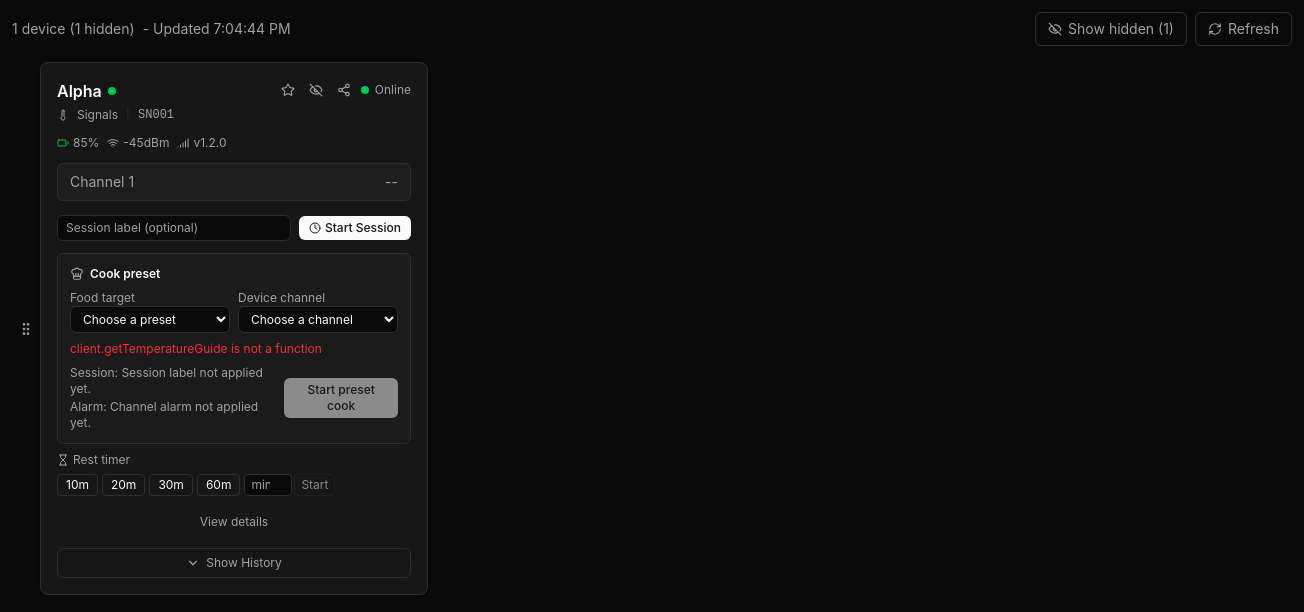
DeviceList visibility › reveals hidden devices when 'Show hidden' is toggled
The image size is (1304, 612).
Expected: the text "Beta" is not shown
Note: Click "Show hidden"
Click the button with aria-label "Show hidden devices" at (1111, 29), box x1=1035 y1=12 x2=1187 y2=46
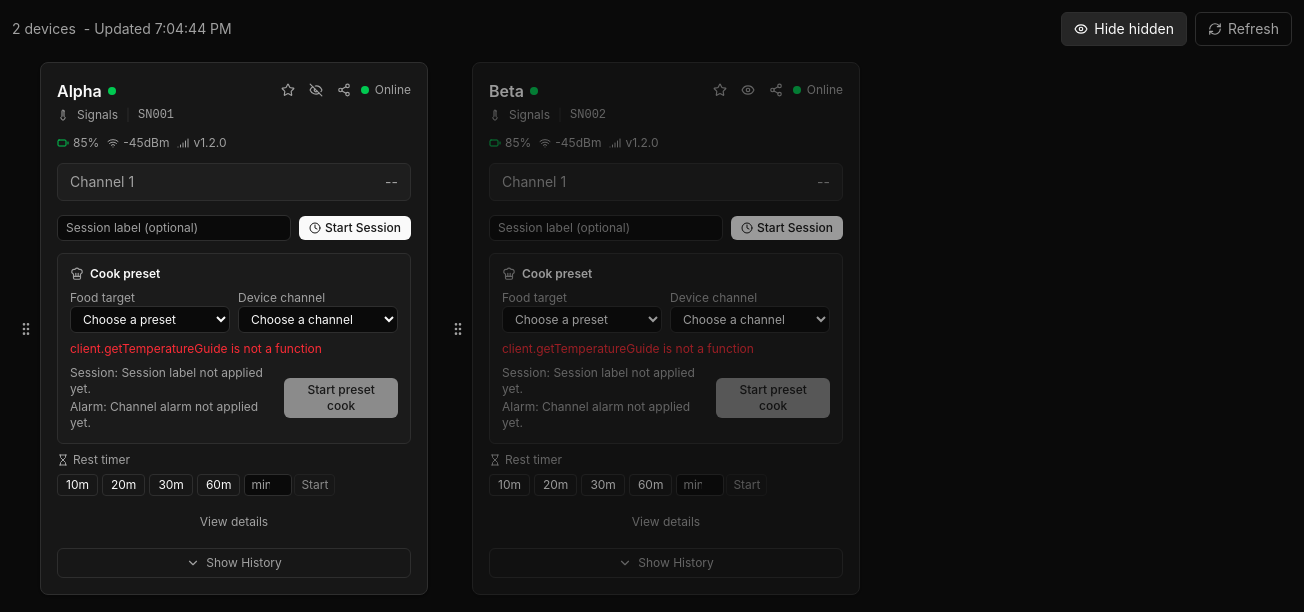
Now the link "Beta" is shown, box x1=489 y1=79 x2=524 y2=103
Now the button with aria-label "Hide hidden devices" is shown, box x1=1061 y1=12 x2=1187 y2=46
